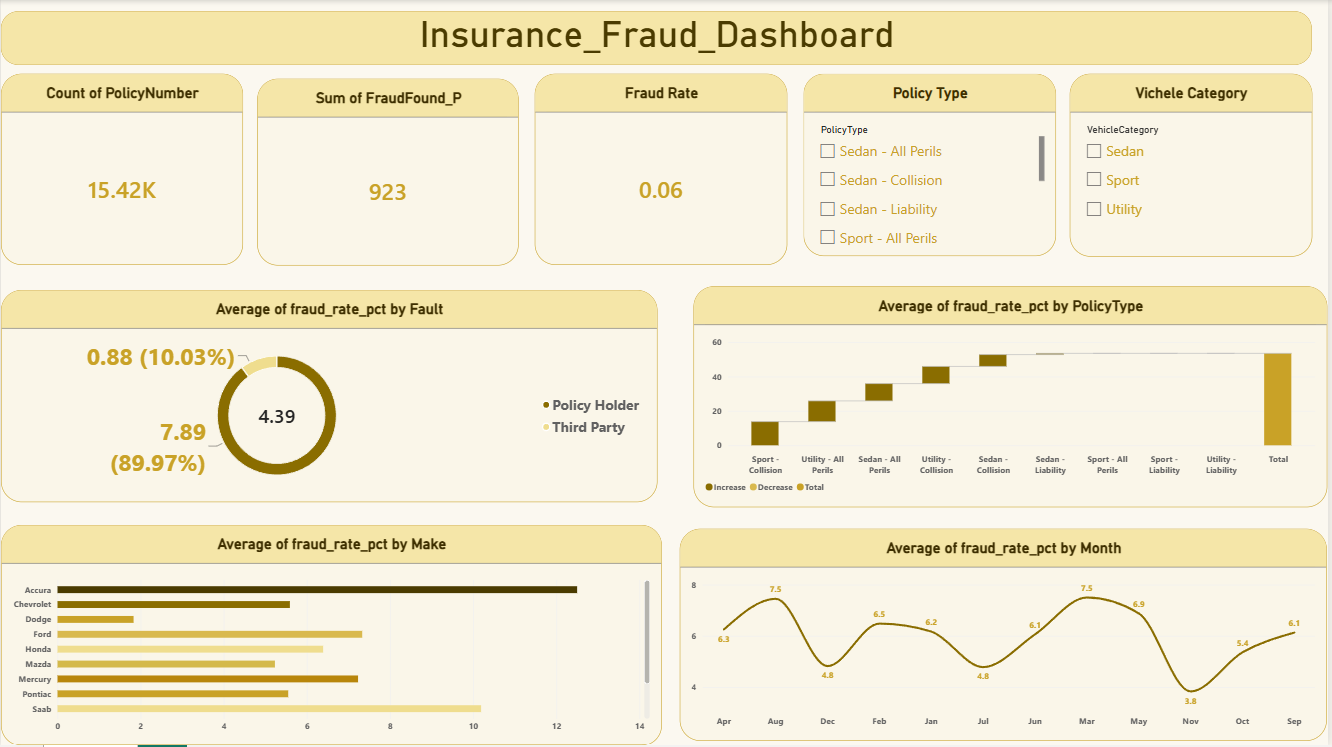

The page's visual inventory and layout, read from the dashboard file:
{"tool":"powerbi","page":{"name":"Page 1","canvas":[1920,1080],"ordinal":0},"visuals":[{"type":"card","fields":{"Values":["CountNonNull(claims_cleaned.PolicyNumber)"]},"box":[159.6,610.8,401.7,445.7],"z":0},{"type":"card","fields":{"Values":["Sum(claims_cleaned.FraudFound_P)"]},"box":[733.7,610.8,363.2,445.7],"z":1},{"type":"card","fields":{"Values":["claims_cleaned.Fraud Rate %"]},"box":[1298.6,610.8,388.9,445.7],"z":2},{"type":"donutChart","fields":{"Category":["fraud_by_fault.Fault"],"Y":["Avg(fraud_by_fault.fraud_rate_pct)"]},"box":[69.7,108.2,350.3,348.5],"z":3},{"type":"lineChart","fields":{"Category":["fraud_by_month.Month"],"Y":["Avg(fraud_by_month.fraud_rate_pct)"]},"box":[561.3,108.2,355.8,348.5],"z":4},{"type":"clusteredBarChart","fields":{"Category":["fraud_by_make.Make"],"Y":["Avg(fraud_by_make.fraud_rate_pct)"]},"box":[1008.8,108.2,355.8,348.5],"z":5},{"type":"clusteredBarChart","fields":{"Category":["fraud_by_policytype.PolicyType"],"Y":["Avg(fraud_by_policytype.fraud_rate_pct)"]},"box":[1443.6,108.2,363.2,348.5],"z":6},{"type":"textbox","box":[608.1,0,800.7,54.1],"z":7}]}

Visuals, with their boxes in screenshot pixels (x1, y1, x2, y2), scaled from the page's 1920x1080 canvas onto the 1332x747 screenshot:
card - CountNonNull(claims_cleaned.PolicyNumber): {"x1": 111, "y1": 422, "x2": 389, "y2": 731}
card - Sum(claims_cleaned.FraudFound_P): {"x1": 509, "y1": 422, "x2": 761, "y2": 731}
card - claims_cleaned.Fraud Rate %: {"x1": 901, "y1": 422, "x2": 1171, "y2": 731}
donutChart - fraud_by_fault.Fault x Avg(fraud_by_fault.fraud_rate_pct): {"x1": 48, "y1": 75, "x2": 291, "y2": 316}
lineChart - fraud_by_month.Month x Avg(fraud_by_month.fraud_rate_pct): {"x1": 389, "y1": 75, "x2": 636, "y2": 316}
clusteredBarChart - fraud_by_make.Make x Avg(fraud_by_make.fraud_rate_pct): {"x1": 700, "y1": 75, "x2": 947, "y2": 316}
clusteredBarChart - fraud_by_policytype.PolicyType x Avg(fraud_by_policytype.fraud_rate_pct): {"x1": 1001, "y1": 75, "x2": 1253, "y2": 316}
textbox: {"x1": 422, "y1": 0, "x2": 977, "y2": 37}
